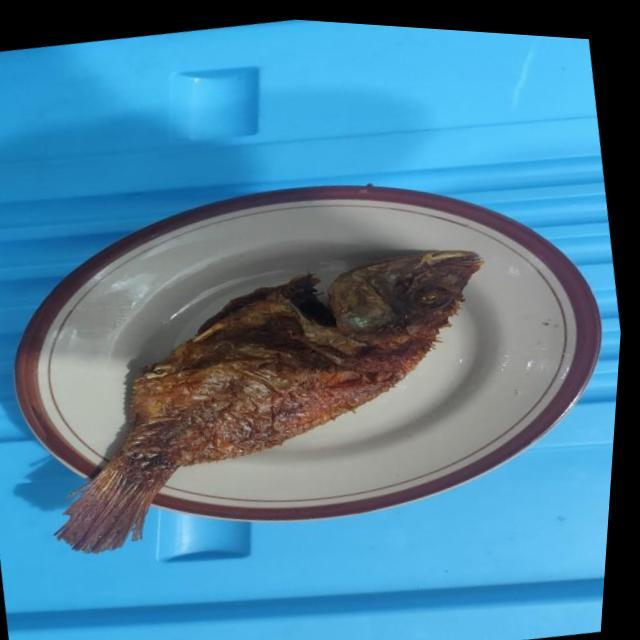ikan_mujair: (55, 250, 482, 552)
